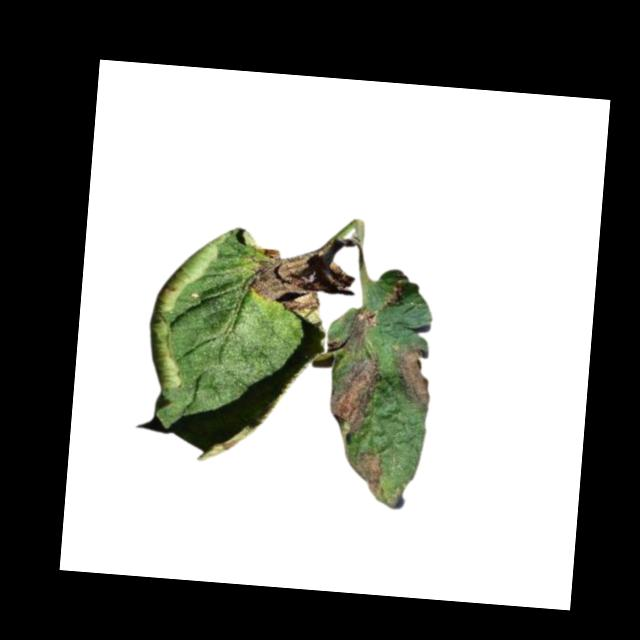Late_blight: (243, 249, 356, 320), (326, 351, 382, 444), (391, 343, 434, 412), (326, 303, 378, 356), (343, 451, 384, 497), (377, 279, 406, 311)
